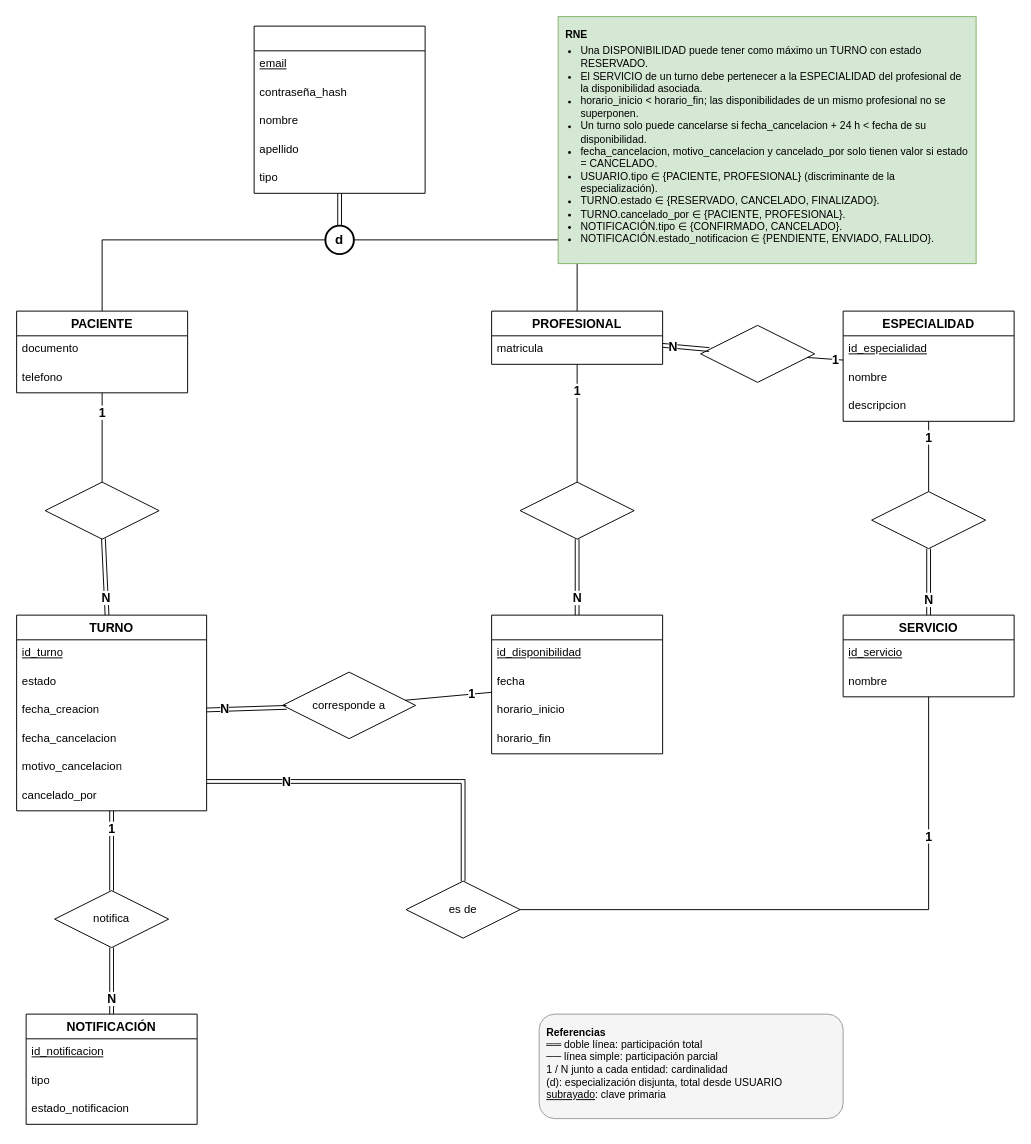
The diagram is 1031 pixels wide and 1144 high, and some of its shapes have lost their labels. Here are the shapes that lost their labels. From the top down, the box of each, then its label:
(253, 25, 425, 193): USUARIO
(700, 324, 815, 382): pertenece
(44, 481, 159, 539): reserva
(519, 481, 634, 539): tiene
(871, 491, 986, 549): ofrece
(491, 614, 663, 754): DISPONIBILIDAD HORARIOS
